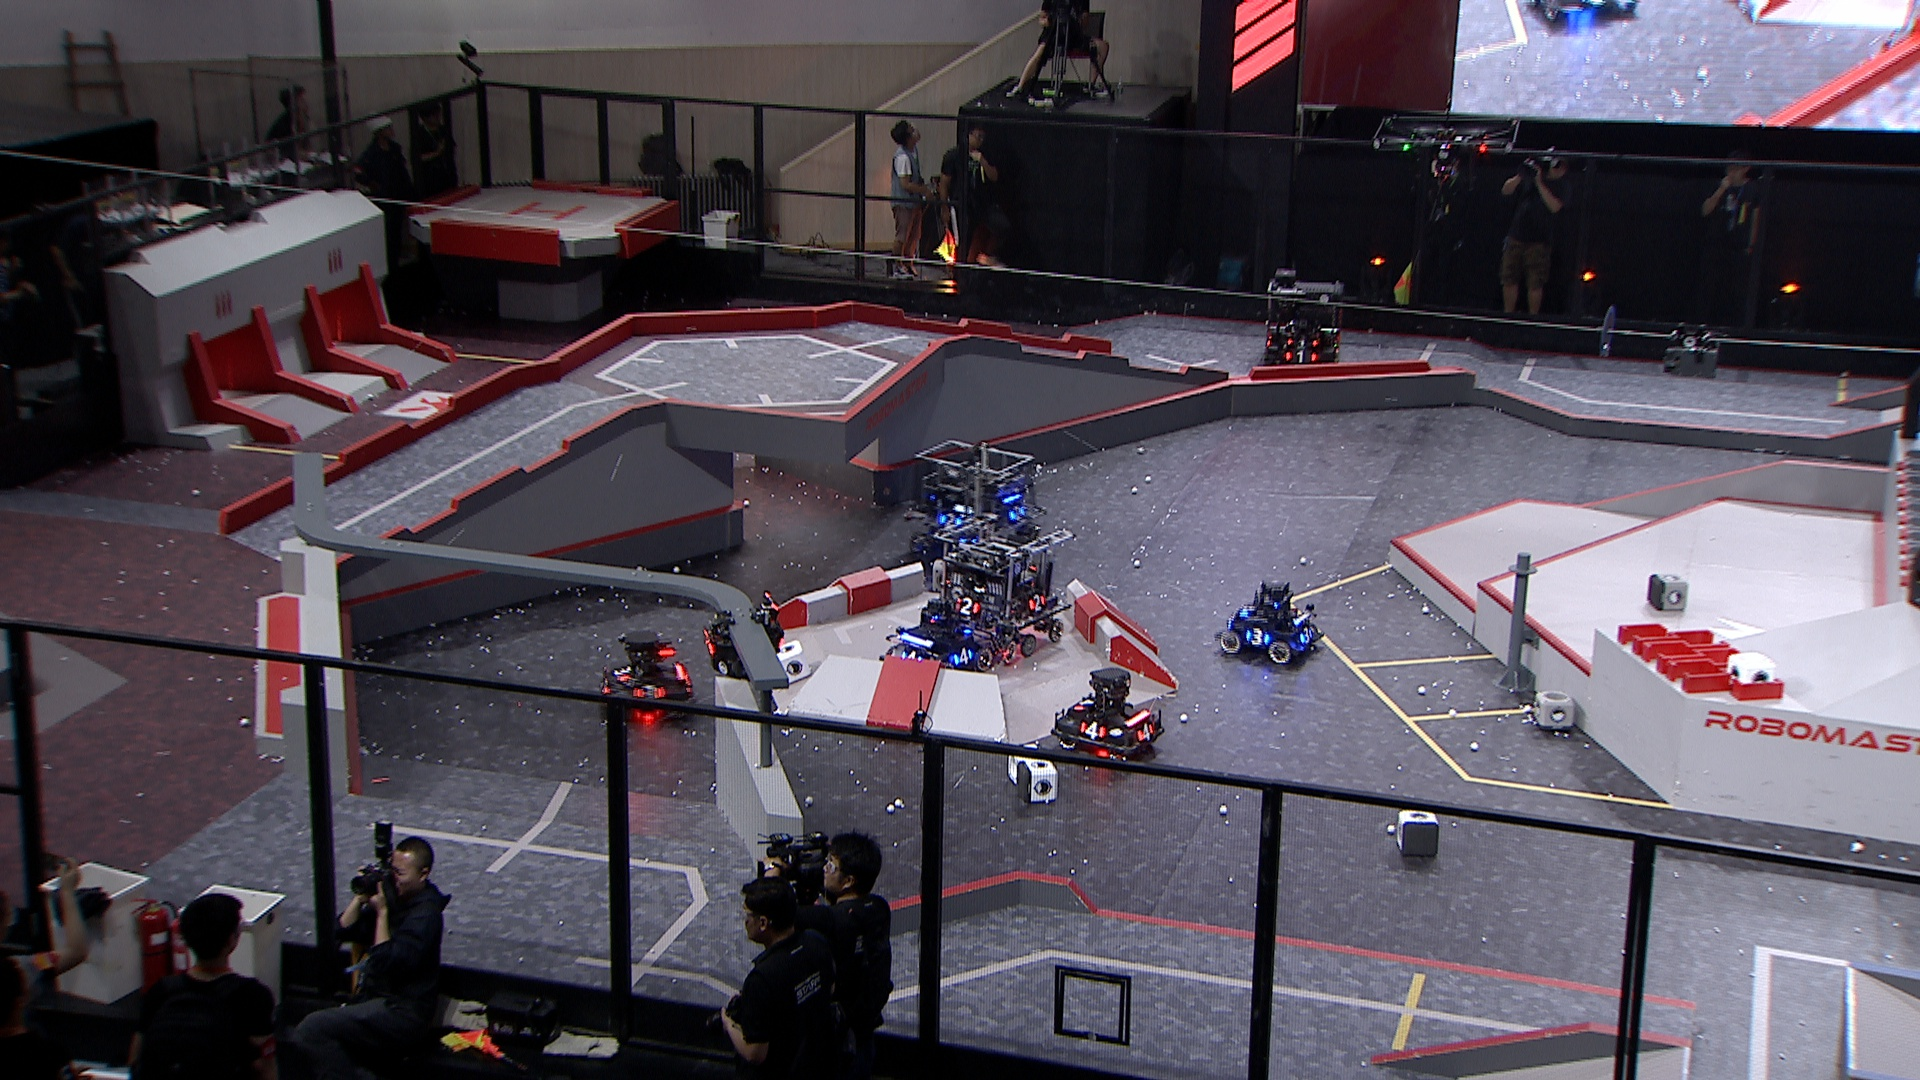armor: (1244, 626, 1273, 650), (633, 680, 670, 699), (1284, 334, 1320, 351), (953, 597, 981, 617), (1077, 721, 1106, 740), (1283, 351, 1319, 365), (951, 645, 975, 666), (702, 629, 717, 659), (1026, 591, 1046, 615), (939, 512, 965, 529), (1135, 723, 1156, 742), (612, 665, 632, 684), (1007, 505, 1027, 524), (1298, 626, 1315, 647), (1073, 698, 1096, 712), (1238, 603, 1258, 618), (599, 676, 612, 695), (899, 650, 922, 661)
car: (934, 508, 1076, 670), (903, 440, 1044, 572), (1048, 666, 1168, 765), (878, 600, 993, 690), (596, 628, 698, 723), (1215, 582, 1323, 666), (1259, 268, 1346, 372)
watcher: (699, 591, 787, 683)
